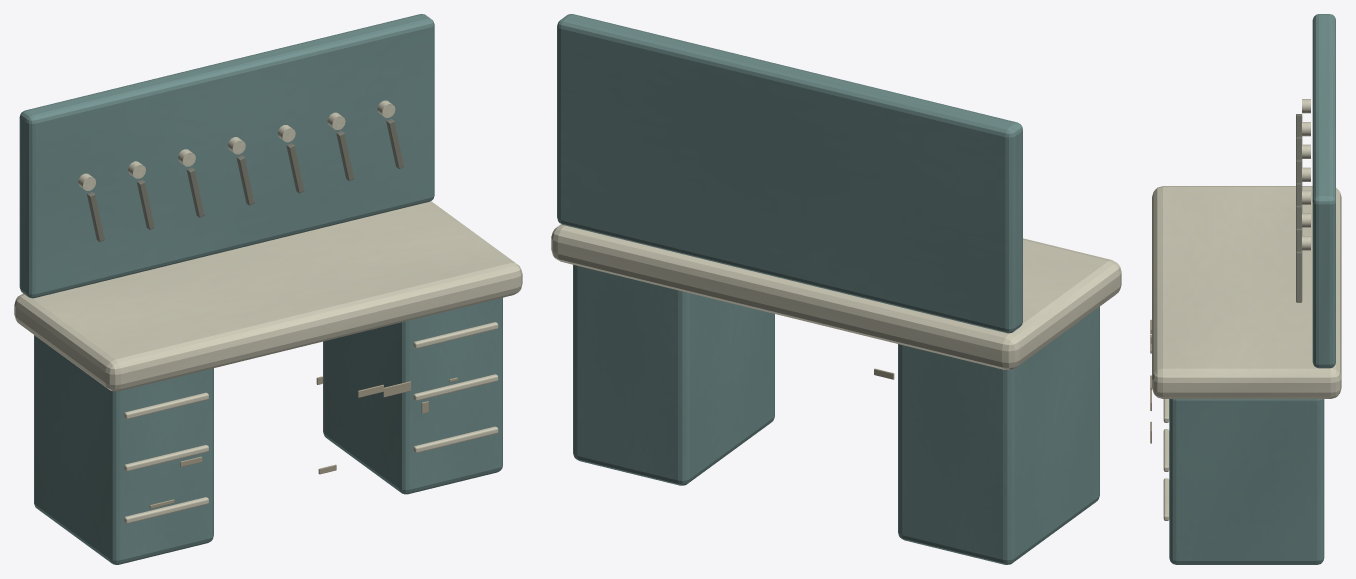
Rendered from Repair_Workbench.glb.
3 views of the same model, side by side, from view 1: azimuth 30°, elevation 25°; view 2: azimuth 150°, elevation 25°; view 3: azimuth 270°, elevation 25° (orthographic). The views are drawn at different scales.
Visible parts, largest first — view 1: Repair_Workbench; view 2: Repair_Workbench; view 3: Repair_Workbench.
Boxes of the visible parts, x1,y1,x2,y2 form: Repair_Workbench: (14,14,522,564); Repair_Workbench: (551,14,1121,564); Repair_Workbench: (1150,14,1341,564).
Size of the model in its own units: 2.5 by 2.28 by 1.06.
4 materials, 2 textured.
